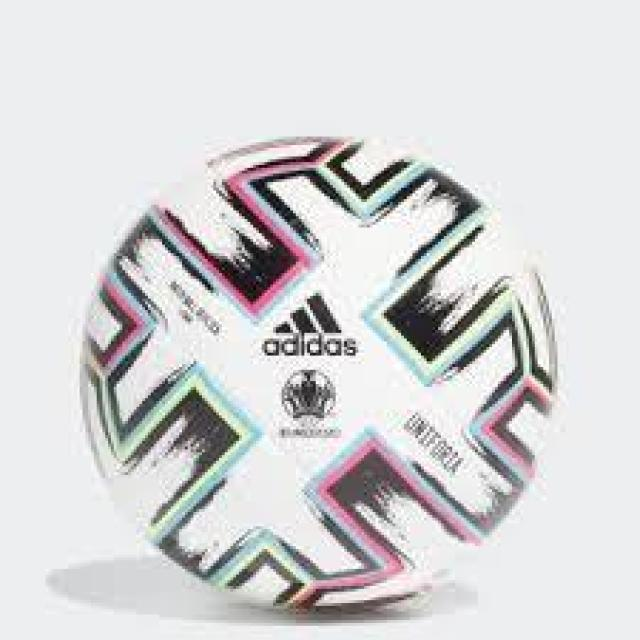Soccer Ball: (80, 128, 563, 614)
